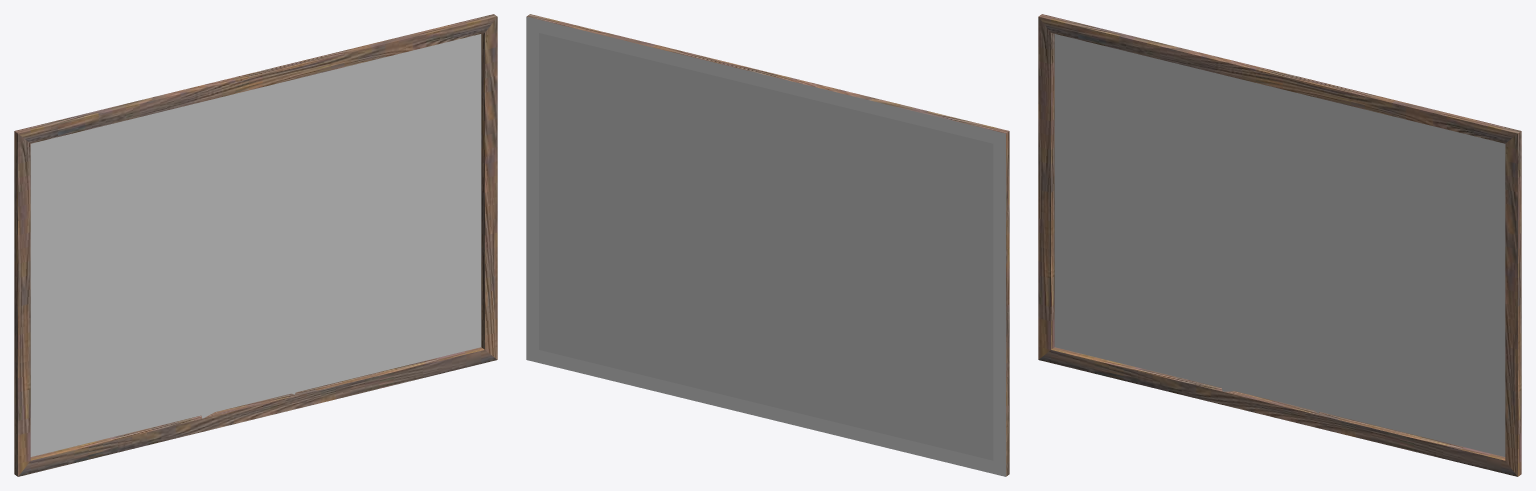
The model's file is papan buletin 4.fbx.
3 renders of one model, left to right at view 1: azimuth 30°, elevation 25°; view 2: azimuth 150°, elevation 25°; view 3: azimuth 330°, elevation 25°, orthographic.
Parts seen in each view (by area): view 1: G-__556149, G-__556140, G-__556176, G-__556158, G-__556194, G-__556203, G-__556185, G-__556212, G-__556167, G-__556131; view 2: G-__556149, G-__556140; view 3: G-__556149, G-__556140, G-__556176, G-__556158, G-__556194, G-__556203, G-__556185, G-__556212, G-__556167, G-__556131.
Part boxes in pixels (bbox=[...]): G-__556149: bbox=[30, 34, 481, 456]; G-__556140: bbox=[14, 14, 497, 476]; G-__556176: bbox=[71, 107, 252, 289]; G-__556158: bbox=[323, 222, 472, 374]; G-__556194: bbox=[284, 78, 415, 223]; G-__556203: bbox=[130, 267, 200, 399]; G-__556185: bbox=[42, 307, 120, 411]; G-__556212: bbox=[220, 257, 290, 330]; G-__556167: bbox=[244, 334, 315, 394]; G-__556131: bbox=[194, 367, 245, 418]; G-__556149: bbox=[539, 33, 993, 460]; G-__556140: bbox=[526, 14, 1009, 476]; G-__556149: bbox=[1054, 34, 1505, 456]; G-__556140: bbox=[1038, 14, 1521, 476]; G-__556176: bbox=[1094, 61, 1275, 242]; G-__556158: bbox=[1343, 290, 1492, 443]; G-__556194: bbox=[1310, 124, 1440, 269]; G-__556203: bbox=[1155, 223, 1225, 355]; G-__556185: bbox=[1066, 231, 1144, 317]; G-__556212: bbox=[1245, 268, 1315, 319]; G-__556167: bbox=[1267, 338, 1338, 413]; G-__556131: bbox=[1215, 357, 1265, 391].
Size of the model in its own units: 96.52 by 66.04 by 1.27.
2 materials, 1 textured.
